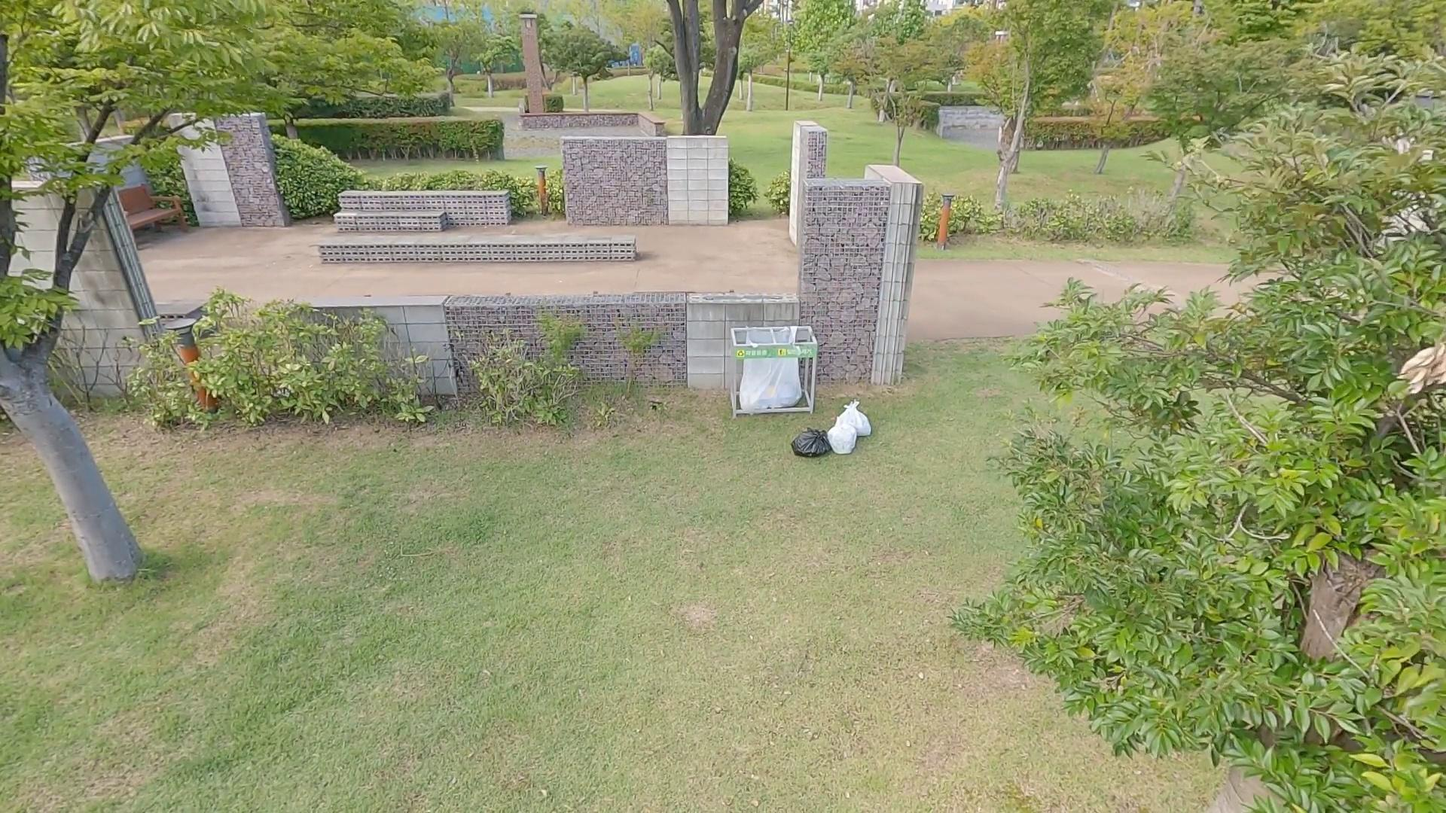trash: (792, 421, 832, 460), (836, 398, 874, 438), (827, 413, 860, 458)
